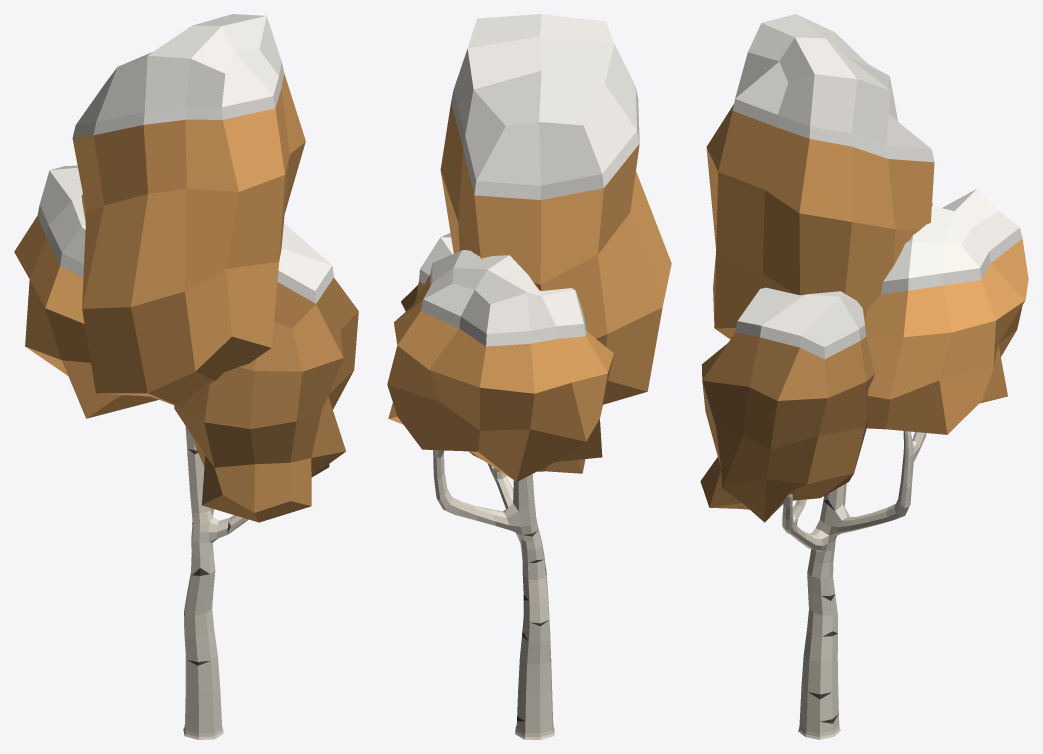
File: BirchTree_Snow_3.glb
3 views of the same model, side by side, from view 1: azimuth 30°, elevation 25°; view 2: azimuth 150°, elevation 25°; view 3: azimuth 270°, elevation 25° (orthographic). The views are drawn at different scales.
Visible parts, largest first — view 1: BirchTree_Snow_3; view 2: BirchTree_Snow_3; view 3: BirchTree_Snow_3.
Part boxes in pixels (<box>): BirchTree_Snow_3: <box>14,14,358,739</box>; BirchTree_Snow_3: <box>387,14,671,739</box>; BirchTree_Snow_3: <box>700,14,1028,739</box>.
Bounding box in the file's own units: 1.57 × 4.15 × 1.77.
